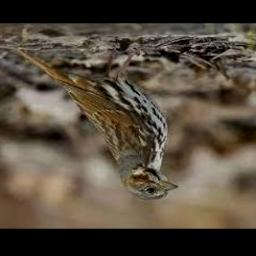Sparrow: (16, 49, 180, 201)
